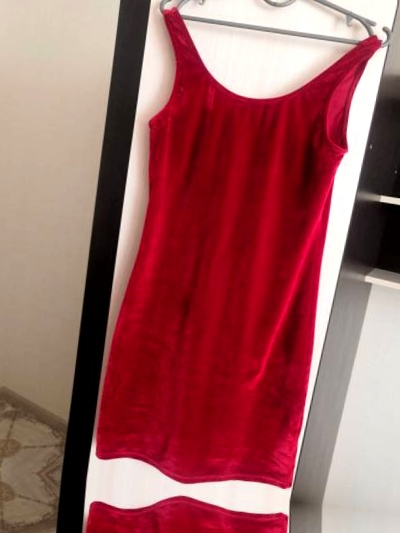Dress: (76, 0, 395, 500), (20, 486, 340, 533)
